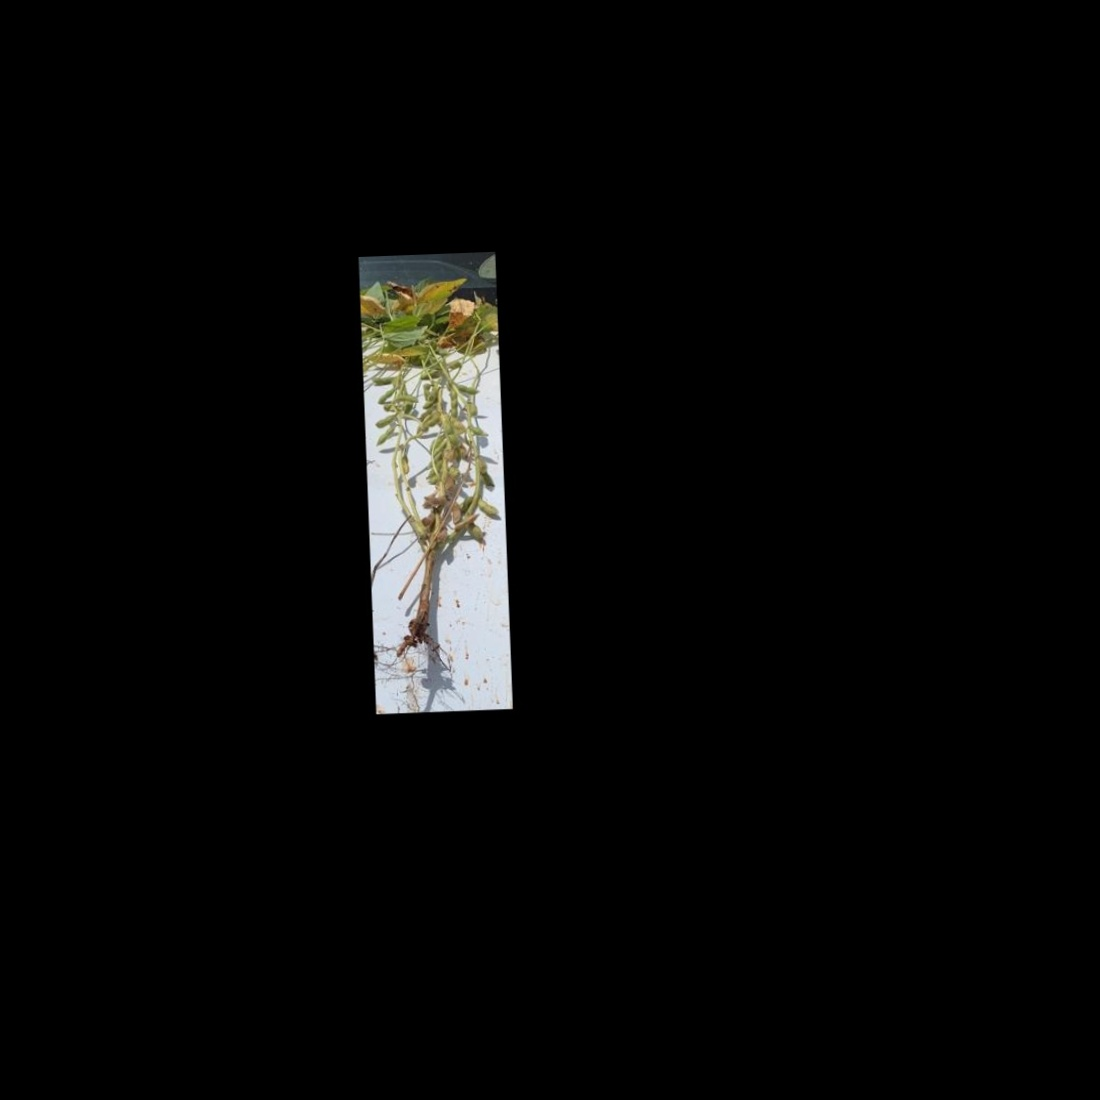pod: (476, 495, 501, 519), (372, 425, 397, 448), (453, 380, 480, 396), (376, 386, 397, 404), (369, 373, 398, 385), (373, 413, 395, 427), (401, 454, 412, 476)
soy: (364, 290, 510, 673)
